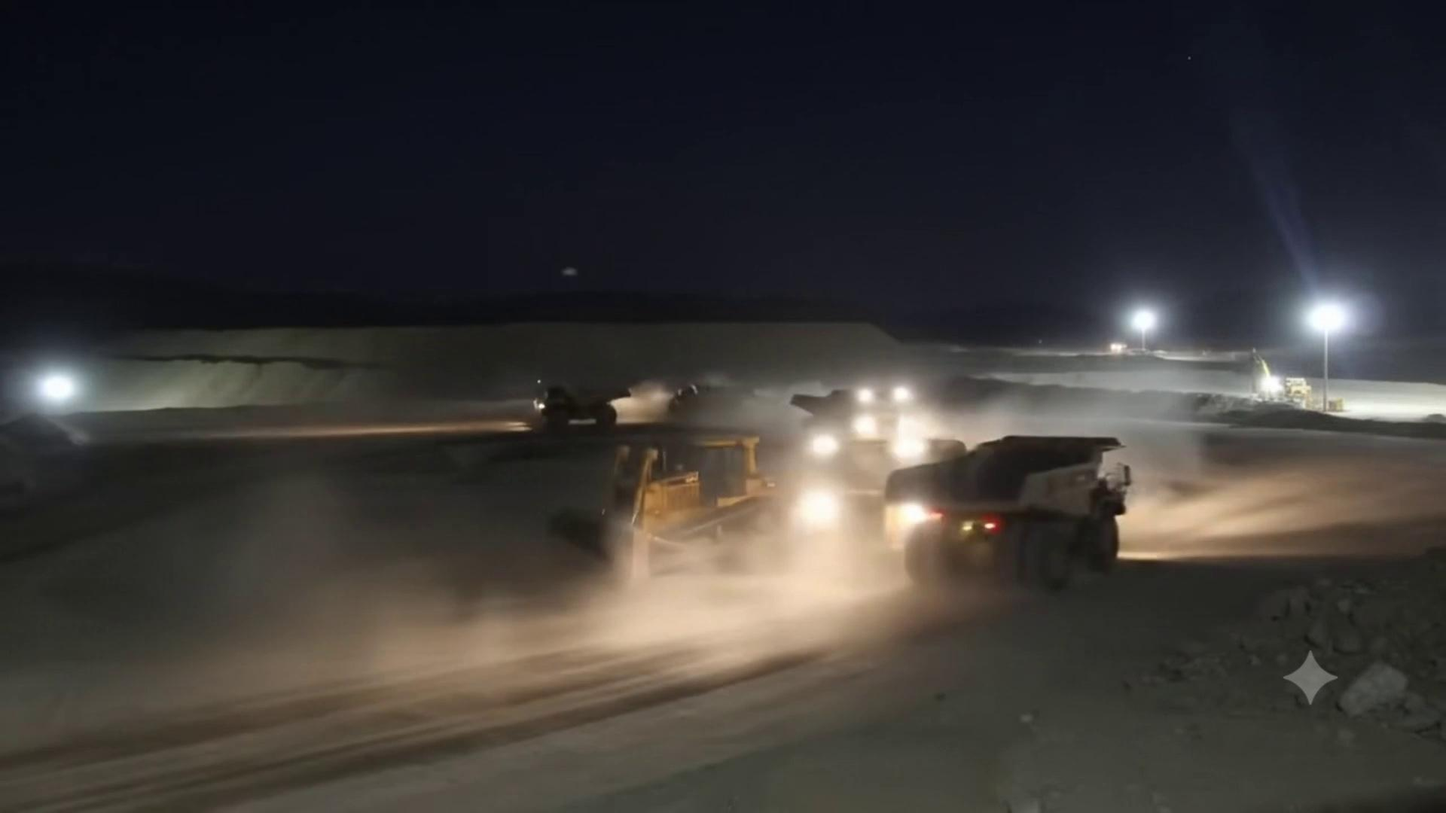CAEX: (881, 435, 1133, 594), (790, 385, 923, 440), (535, 385, 628, 429), (668, 383, 752, 419)
bulldozer: (553, 432, 801, 582)
